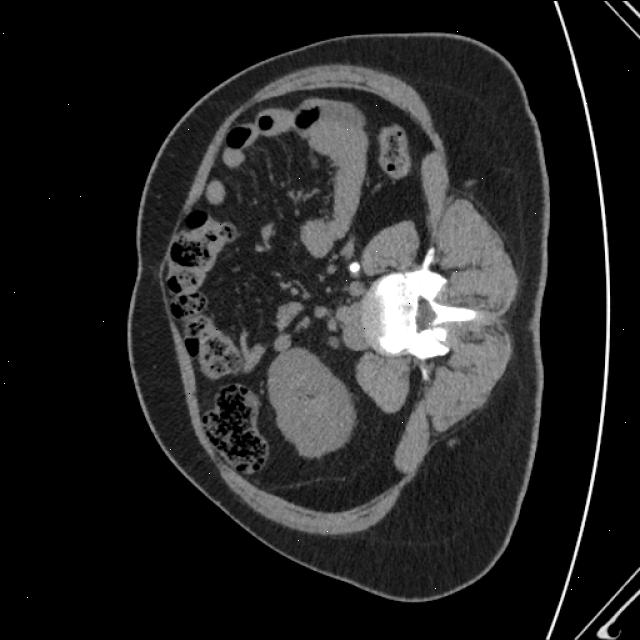kidneystone: (349, 260, 361, 276)
